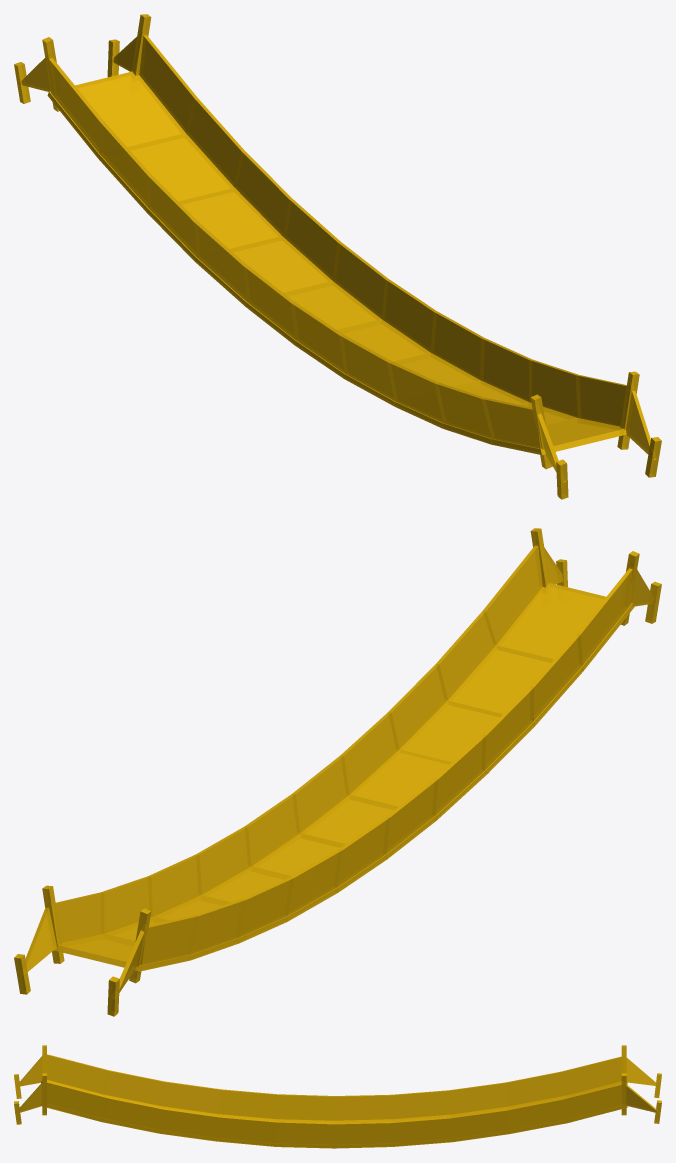
The model's file is SM_Bld_Ropebridge_03_Collision.fbx.
The picture shows the model from 3 angles, top to bottom: view 1: azimuth 30°, elevation 25°; view 2: azimuth 150°, elevation 25°; view 3: azimuth 270°, elevation 25°; orthographic projection. The views are drawn at different scales.
Visible parts, largest first — view 1: SM_Bld_Ropebridge_03_Collision; view 2: SM_Bld_Ropebridge_03_Collision; view 3: SM_Bld_Ropebridge_03_Collision.
Boxes of the visible parts, bbox=[...] form: SM_Bld_Ropebridge_03_Collision: bbox=[14, 14, 661, 499]; SM_Bld_Ropebridge_03_Collision: bbox=[14, 528, 661, 1016]; SM_Bld_Ropebridge_03_Collision: bbox=[14, 1045, 661, 1148].
Bounding box in the file's own units: 258 × 301 × 2326.
